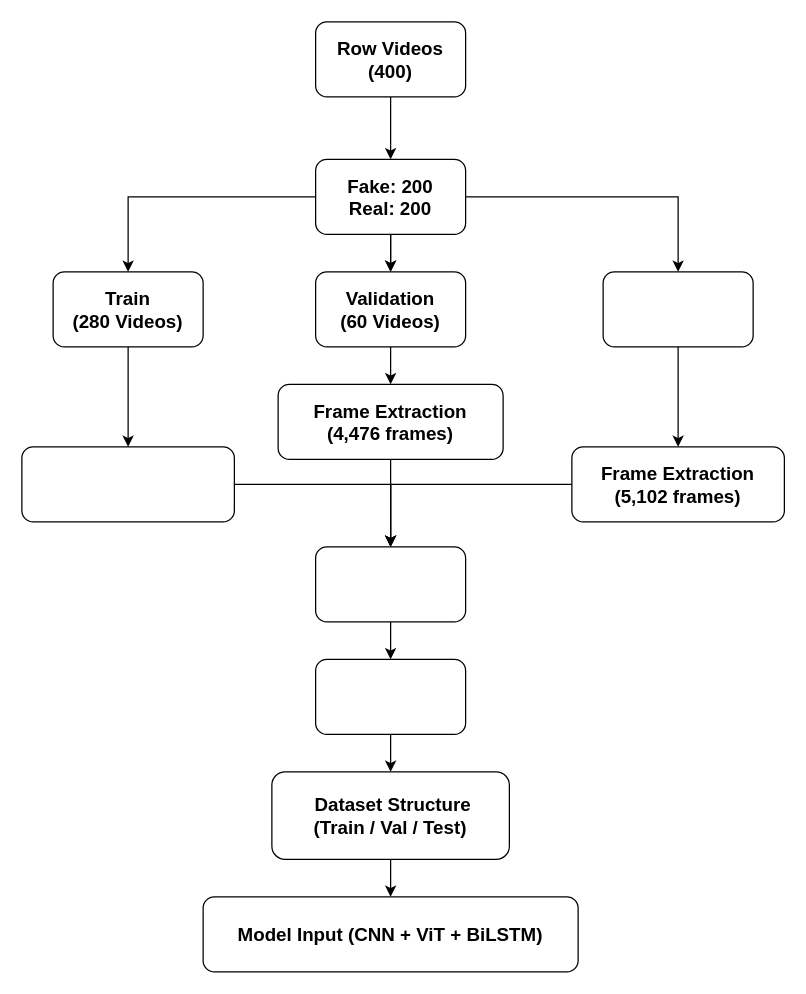
The diagram is 806 pixels wide and 994 high, and some of its shapes have lost their labels. The centre of each missing label's shape, as x and y in pixels:
Cropped Face Frames: pixel 390 696
Face Detection (MTCNN): pixel 390 584
Frame Extraction ( 21,645 frames ): pixel 127 484
Test (60 Videos): pixel 677 309
